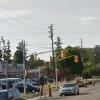Car: (56, 78, 81, 97)
